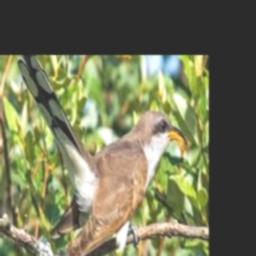Cuckoo: (18, 55, 188, 256)
